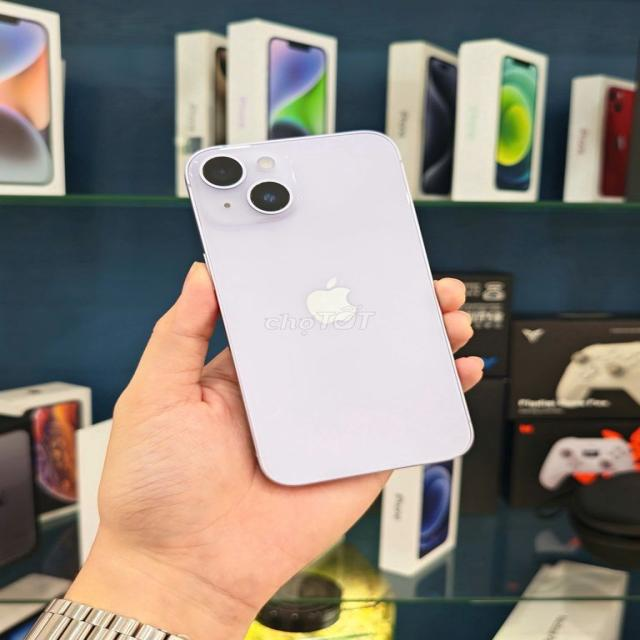gen_14: (180, 126, 482, 494)
